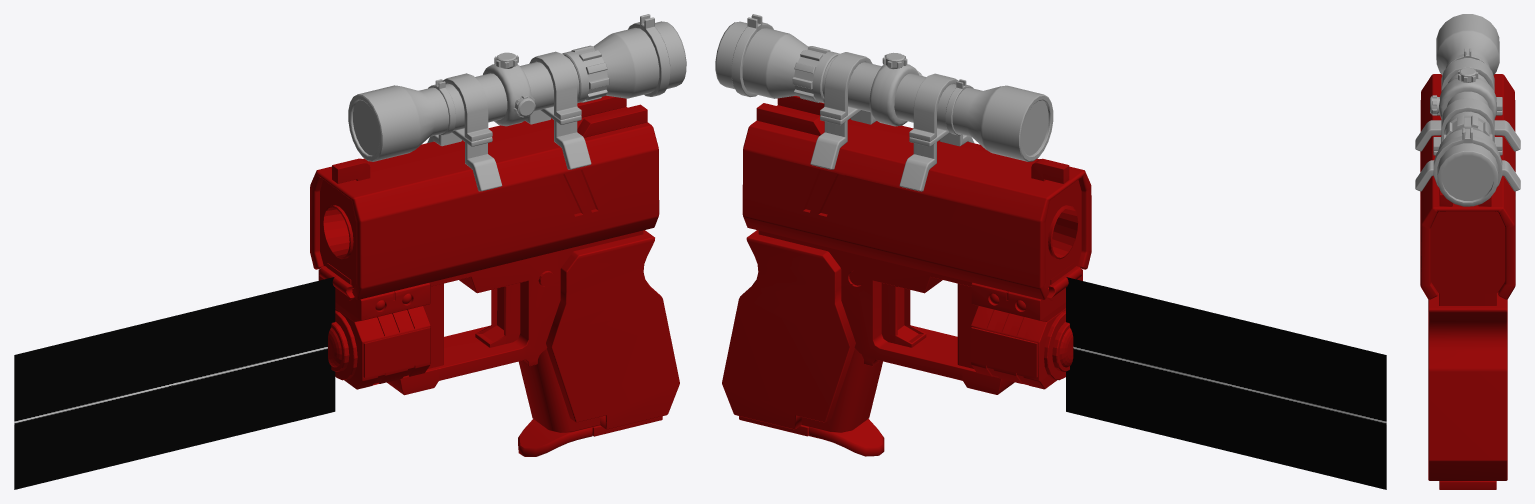
Rendered from Gun_low.fbx.
The picture shows the model from 3 angles, left to right: view 1: azimuth 30°, elevation 25°; view 2: azimuth 150°, elevation 25°; view 3: azimuth 270°, elevation 25°; orthographic projection. The views are drawn at different scales.
Parts seen in each view (by area): view 1: Card, Barrel_low, Handle_low, FrontScope_low, Center_low, Generator_low, BackScope_low, RimTop_low, RimBottom_low, BarrelCenter_low, HandleFront_low, Gun_Front_low (+9 smaller); view 2: Card, Barrel_low, Handle_low, FrontScope_low, Center_low, Generator_low, BackScope_low, RimTop_low, RimBottom_low, BarrelCenter_low, HandleFront_low, Gun_Front_low (+9 smaller); view 3: Handle_low, Back_low, Barrel_low, BackScope_low, FrontScope_low, RimTop_low, RimBottom_low, Adjustor_low, RingB_low, Center_low, BottomeBack_low, Ring_low (+2 smaller).
Boxes of the visible parts, <box> form: Card: <box>14,277,335,489</box>; Barrel_low: <box>310,106,659,299</box>; Handle_low: <box>546,230,679,429</box>; FrontScope_low: <box>348,51,588,161</box>; Center_low: <box>387,230,643,395</box>; Generator_low: <box>335,306,430,389</box>; BackScope_low: <box>593,21,686,98</box>; RimTop_low: <box>442,51,581,141</box>; RimBottom_low: <box>427,106,591,191</box>; BarrelCenter_low: <box>320,179,355,288</box>; HandleFront_low: <box>519,348,600,432</box>; Gun_Front_low: <box>318,268,430,321</box>; Card: <box>1066,277,1386,489</box>; Barrel_low: <box>742,105,1091,299</box>; Handle_low: <box>722,230,855,429</box>; FrontScope_low: <box>812,51,1053,161</box>; Center_low: <box>758,230,1014,394</box>; Generator_low: <box>971,306,1065,389</box>; BackScope_low: <box>715,21,807,98</box>; RimTop_low: <box>820,52,959,141</box>; RimBottom_low: <box>810,107,974,191</box>; BarrelCenter_low: <box>1045,180,1081,287</box>; HandleFront_low: <box>801,349,882,432</box>; Gun_Front_low: <box>971,269,1082,321</box>; Handle_low: <box>1428,292,1507,480</box>; Back_low: <box>1430,212,1505,293</box>; Barrel_low: <box>1420,74,1515,299</box>; BackScope_low: <box>1437,126,1498,206</box>; FrontScope_low: <box>1436,14,1499,134</box>; RimTop_low: <box>1433,58,1502,150</box>; RimBottom_low: <box>1415,110,1520,191</box>; Adjustor_low: <box>1430,68,1496,118</box>; RingB_low: <box>1433,128,1502,186</box>; Center_low: <box>1439,293,1496,305</box>; BottomeBack_low: <box>1439,481,1496,489</box>; Ring_low: <box>1443,115,1492,139</box>.
Bounding box in the file's own units: 74.92 × 44.56 × 11.32.
